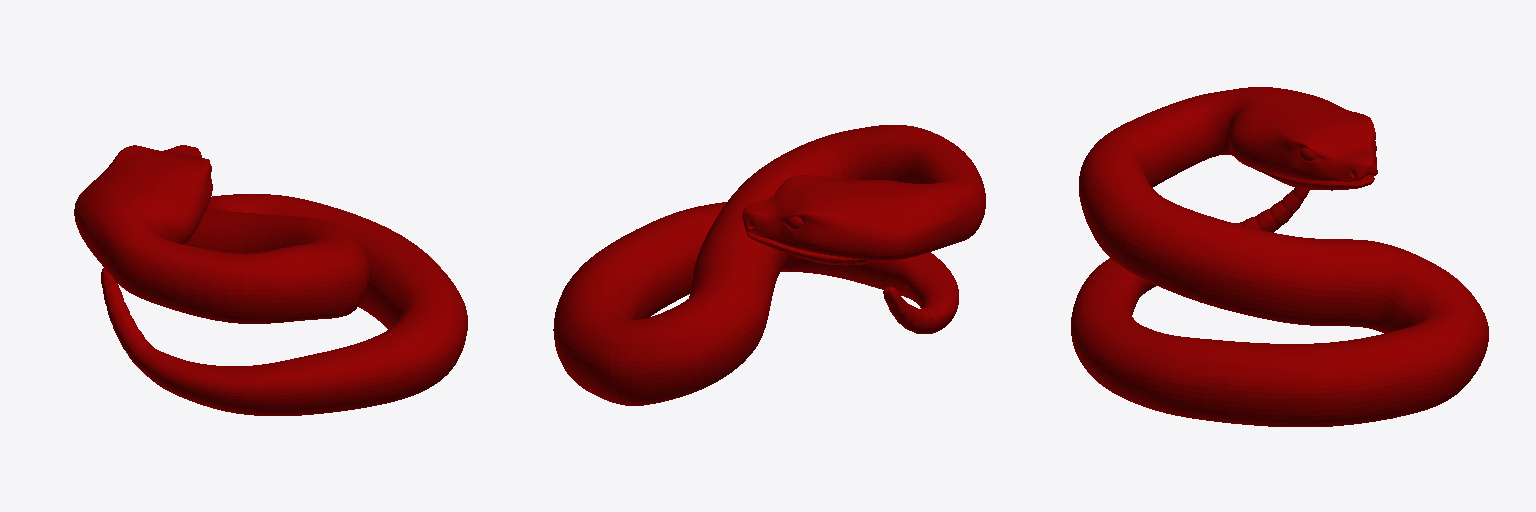
The model's file is kuti_snake2.obj.
The picture shows the model from 3 angles: view 1: azimuth 30°, elevation 25°; view 2: azimuth 150°, elevation 25°; view 3: azimuth 270°, elevation 25°; orthographic projection.
Visible parts, largest first — view 1: 10050_RattleSnake_v04; view 2: 10050_RattleSnake_v04; view 3: 10050_RattleSnake_v04.
Boxes of the visible parts, box(x1,y1,x2,y2) form: 10050_RattleSnake_v04: box(74, 145, 467, 415); 10050_RattleSnake_v04: box(553, 125, 985, 405); 10050_RattleSnake_v04: box(1071, 87, 1488, 426).
Size of the model in its own units: 10.95 by 5.84 by 11.28.